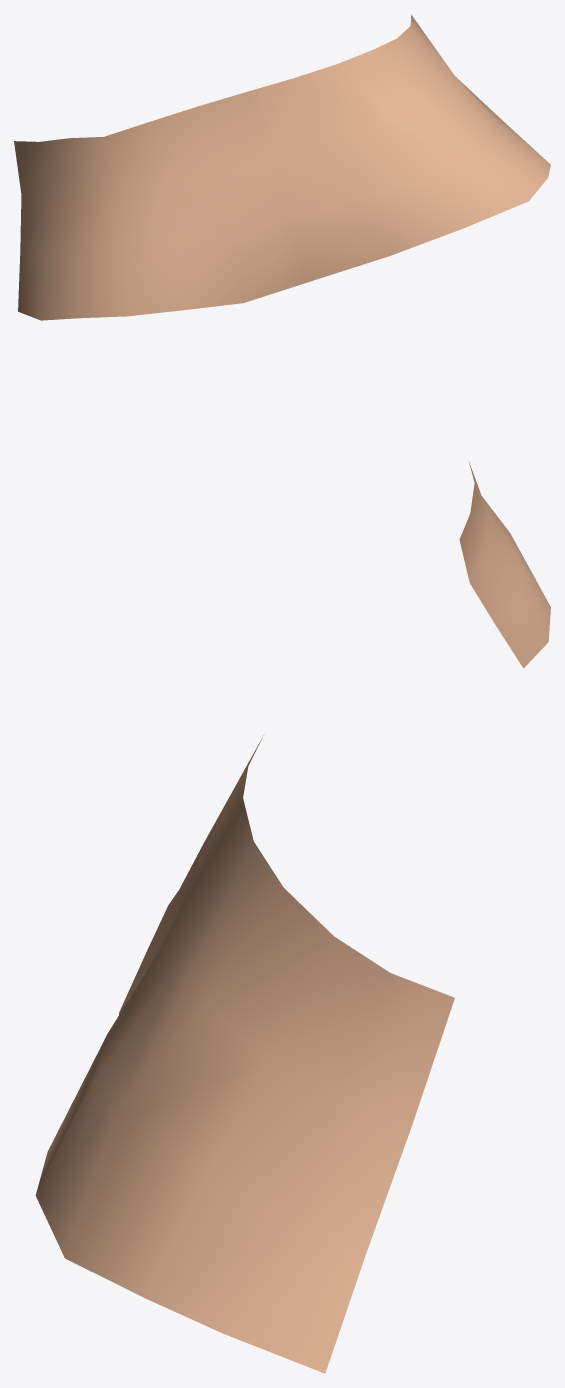
The model's file is anterior-region-of-wrist-l.glb.
3 renders of one model, top to bottom at view 1: azimuth 30°, elevation 25°; view 2: azimuth 150°, elevation 25°; view 3: azimuth 270°, elevation 25°, orthographic. The views are drawn at different scales.
Parts seen in each view (by area): view 1: Anterior region of wrist.l; view 2: Anterior region of wrist.l; view 3: Anterior region of wrist.l.
Part boxes in pixels (x1,y1,x2,y2): Anterior region of wrist.l: (14, 15, 550, 320); Anterior region of wrist.l: (459, 462, 550, 668); Anterior region of wrist.l: (35, 735, 454, 1373).
Size of the model in its own units: 0.0823 by 0.032 by 0.0349.
